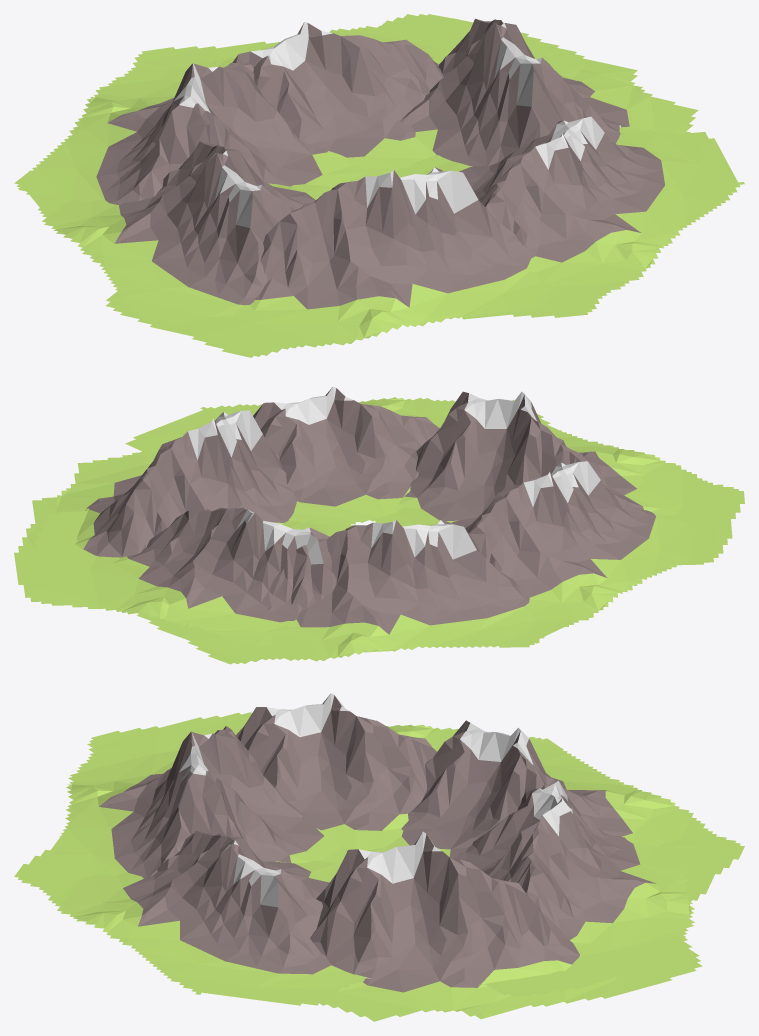
Rendered from mountains.gltf.
3 renders of one model, top to bottom at view 1: azimuth 30°, elevation 25°; view 2: azimuth 150°, elevation 25°; view 3: azimuth 270°, elevation 25°, orthographic. The views are drawn at different scales.
Parts seen in each view (by area): view 1: Plane.002; view 2: Plane.002; view 3: Plane.002.
Part boxes in pixels (left/top/right/bottom): Plane.002: left=14, top=14, right=744, bottom=357; Plane.002: left=14, top=386, right=744, bottom=664; Plane.002: left=14, top=693, right=744, bottom=1021.
Bounding box in the file's own units: 395 × 65.06 × 400.
